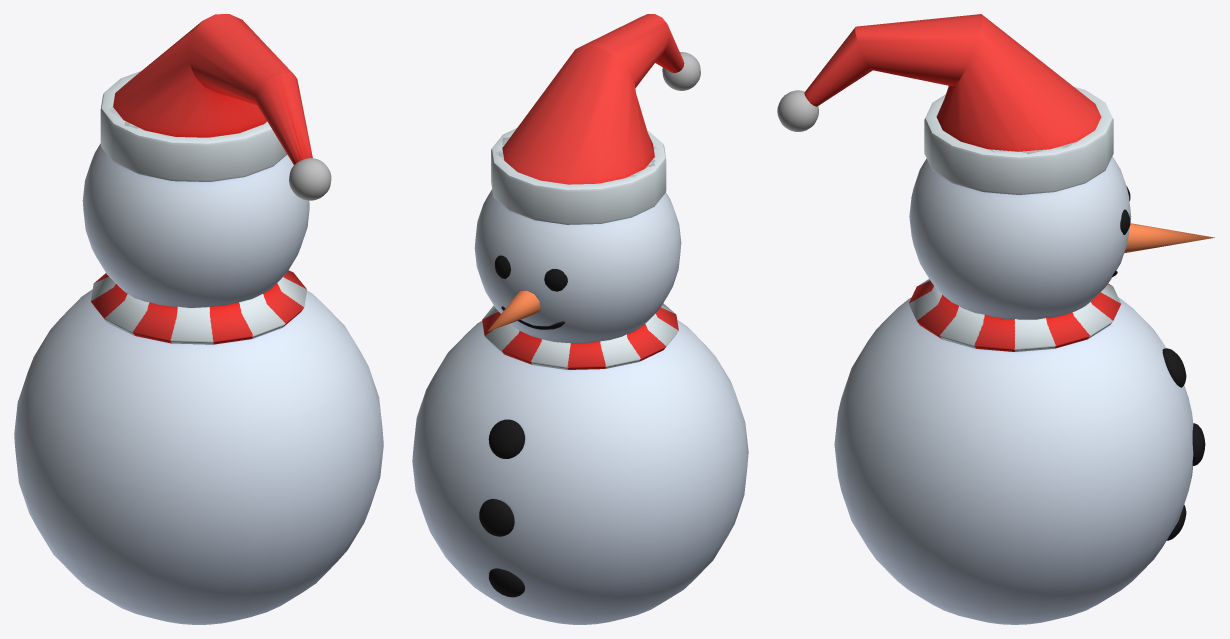
File: nguoiw tuyet.fbx
3 views of the same model, side by side, from view 1: azimuth 30°, elevation 25°; view 2: azimuth 150°, elevation 25°; view 3: azimuth 270°, elevation 25° (orthographic). The views are drawn at different scales.
Parts seen in each view (by area): view 1: nguoi_tuyet1; view 2: nguoi_tuyet1; view 3: nguoi_tuyet1.
Boxes of the visible parts, x1,y1,x2,y2 form: nguoi_tuyet1: (14, 14, 383, 624); nguoi_tuyet1: (412, 14, 748, 624); nguoi_tuyet1: (777, 14, 1214, 624).
Bounding box in the file's own units: 79.93 × 144 × 97.03.
1 material, 1 textured.
